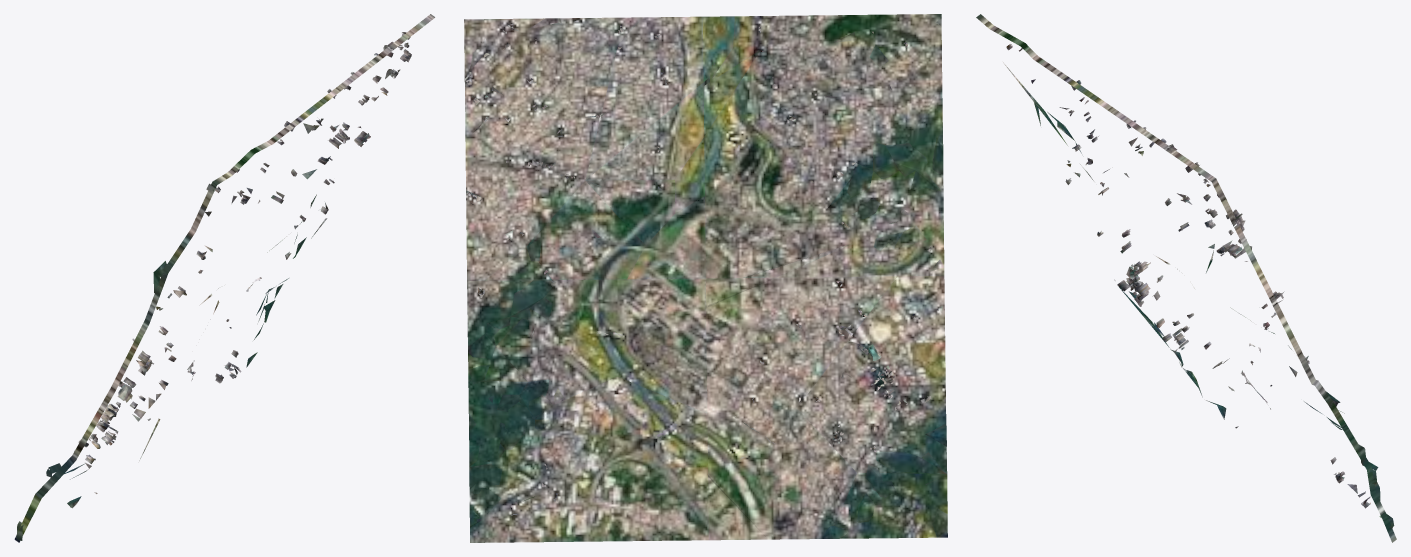
3 views of the same model, side by side, from view 1: azimuth 30°, elevation 25°; view 2: azimuth 150°, elevation 25°; view 3: azimuth 270°, elevation 25° (orthographic). The views are drawn at different scales.
Size of the model in its own units: 4979 by 4462 by 4126.
Materials: 1 (1 with a texture image).
